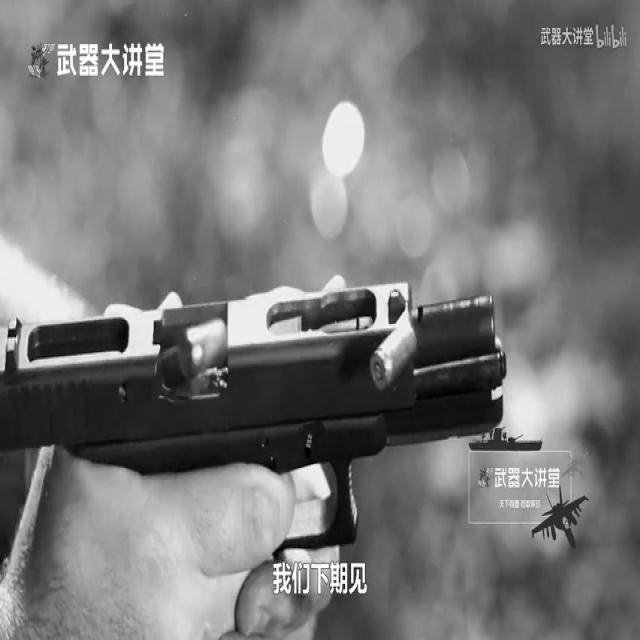Hand-Gun: (0, 207, 582, 640)
